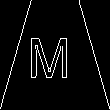M_N: (33, 30, 77, 80)
